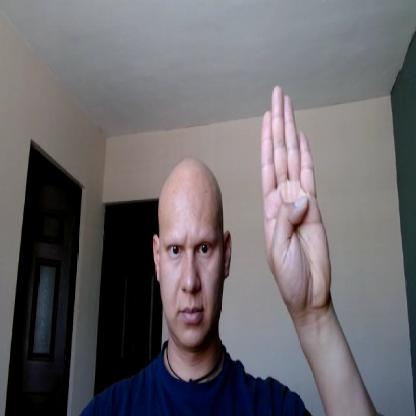B: (260, 85, 330, 308)
